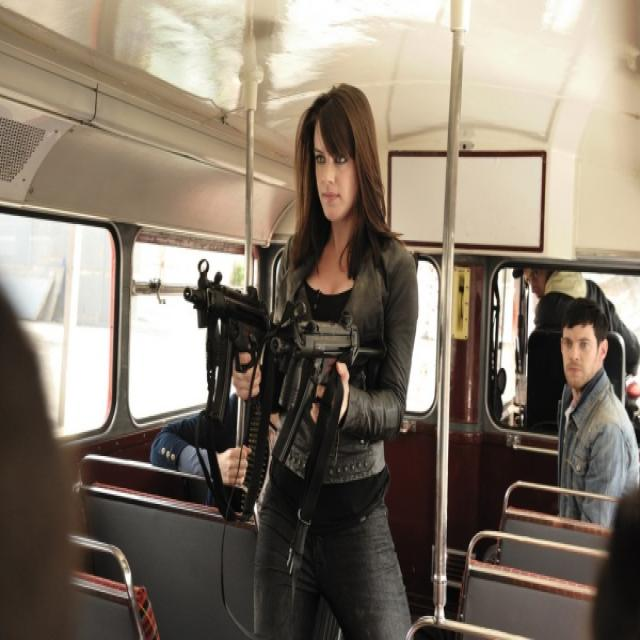rifle: (270, 299, 390, 465), (182, 266, 274, 421)
